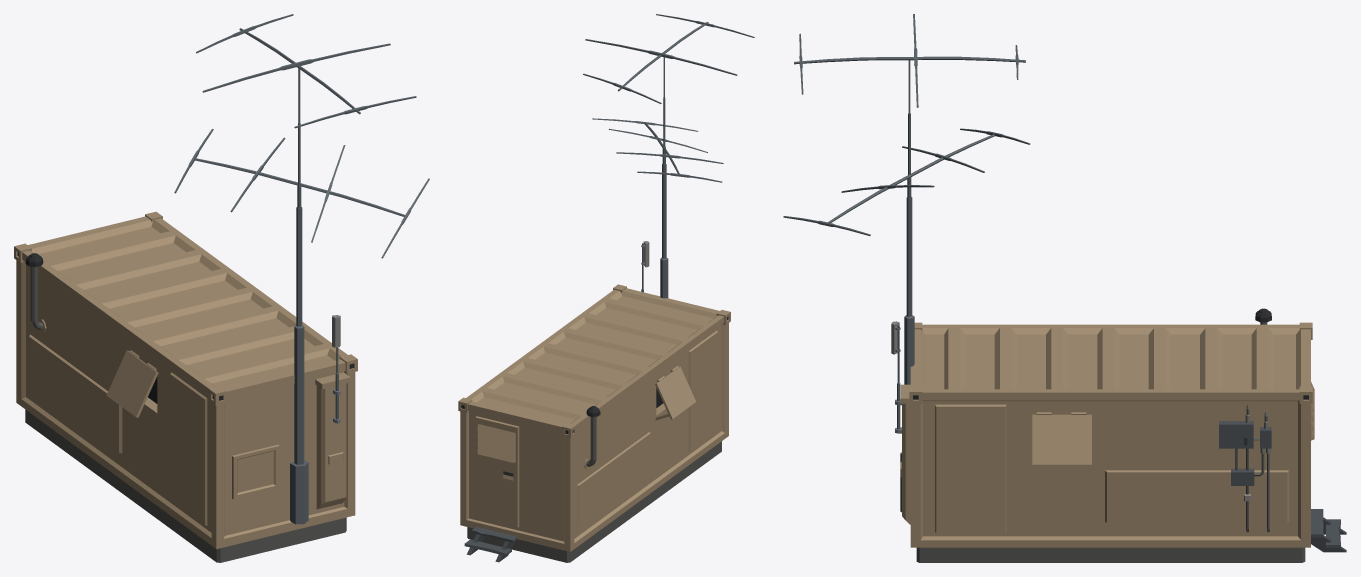
File: SM_Prop_Radio_Control_Box_01.fbx
3 renders of one model, left to right at view 1: azimuth 30°, elevation 25°; view 2: azimuth 150°, elevation 25°; view 3: azimuth 270°, elevation 25°, orthographic. The views are drawn at different scales.
Parts seen in each view (by area): view 1: SM_Prop_Radio_Control_Box_01; view 2: SM_Prop_Radio_Control_Box_01; view 3: SM_Prop_Radio_Control_Box_01.
Part boxes in pixels (box(x1,y1,x2,y2)): SM_Prop_Radio_Control_Box_01: box(14, 14, 429, 562); SM_Prop_Radio_Control_Box_01: box(458, 14, 754, 562); SM_Prop_Radio_Control_Box_01: box(783, 14, 1346, 562).
Bounding box in the file's own units: 372 × 805 × 853.
